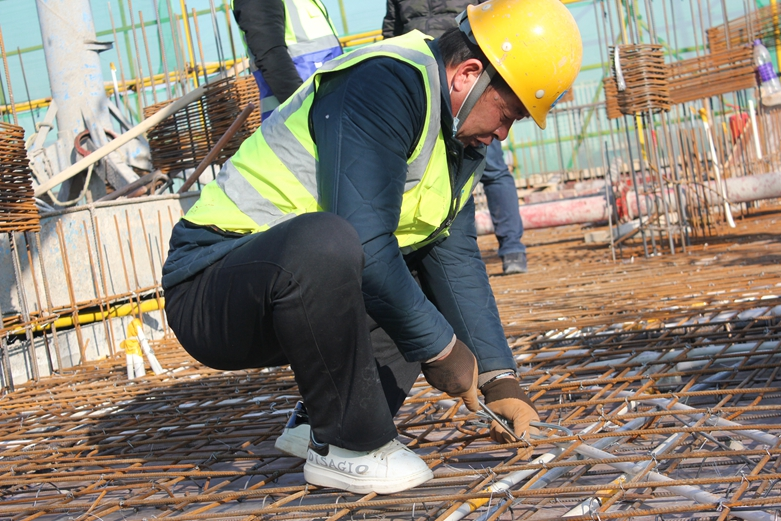safetyhat: (133, 1, 667, 478)
